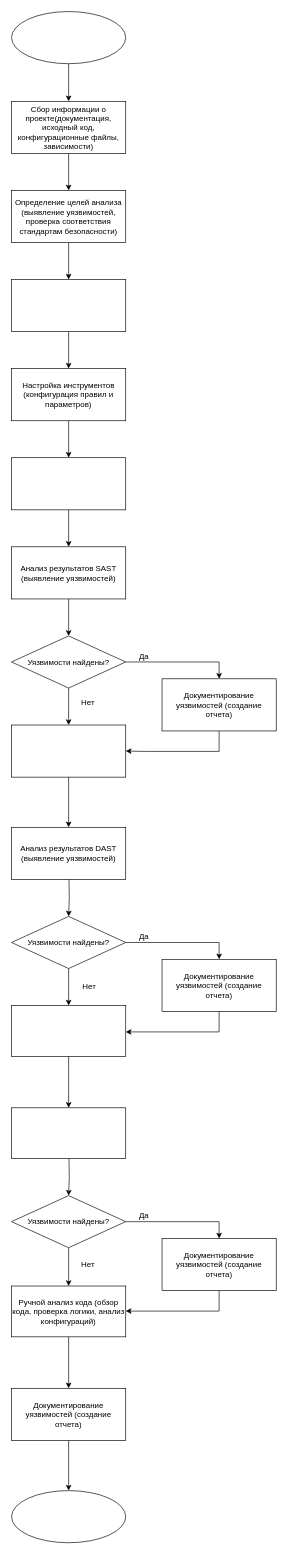
This 288x1554 diagram has some shape labels left out. Here are the shapes that lost their labels. From the top down, the box of each, then its label:
(11, 11, 126, 64): Начало
(11, 279, 126, 332): Выбор инструментов для анализа (SAST, DAST, SCA)
(11, 457, 126, 510): Статический анализ кода (SAST)(SonarQube)
(11, 724, 126, 777): Динамический анализ кода (DAST)(OWASP ZAP, Burp Suite)
(11, 1005, 126, 1056): Анализ зависимостей (SCA) (OWASP Dependency-Check, Snyk)
(11, 1107, 126, 1159): Анализ результатов SCA (выявление уязвимостей в зависимостях)|
(11, 1490, 126, 1543): Конец
